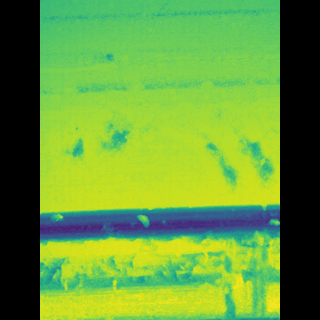Loch: (73, 90, 250, 200), (68, 226, 245, 320)
